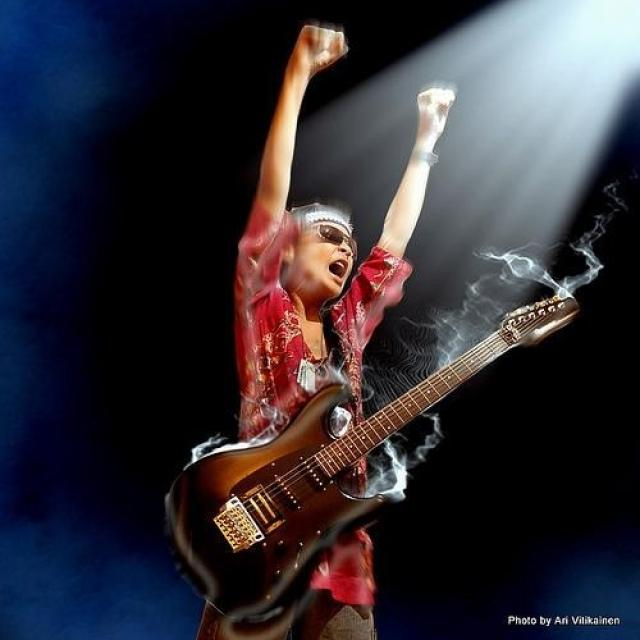guitar: (157, 291, 584, 621)
